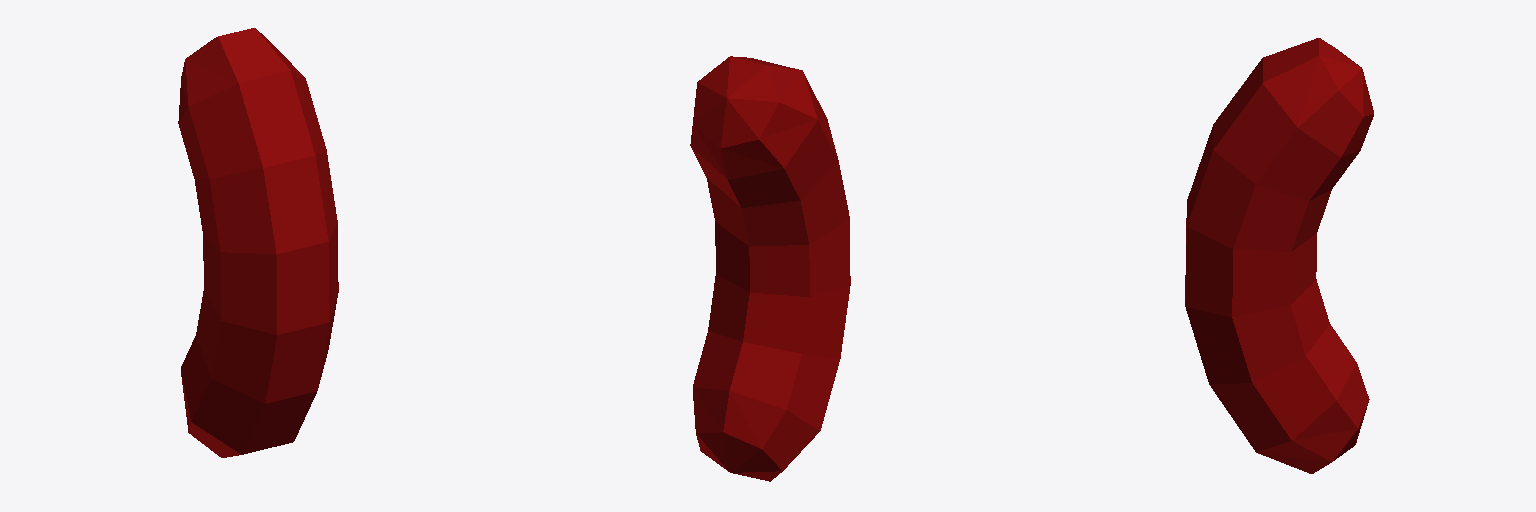
File: wurst_low.obj
3 renders of one model, left to right at view 1: azimuth 30°, elevation 25°; view 2: azimuth 150°, elevation 25°; view 3: azimuth 270°, elevation 25°, orthographic.
Visible parts, largest first — view 1: geo_wurst; view 2: geo_wurst; view 3: geo_wurst.
Part boxes in pixels (x1,y1,x2,y2): geo_wurst: (178, 28, 338, 457); geo_wurst: (690, 56, 850, 481); geo_wurst: (1185, 38, 1373, 473).
Bounding box in the file's own units: 1.23 × 4.19 × 1.71.